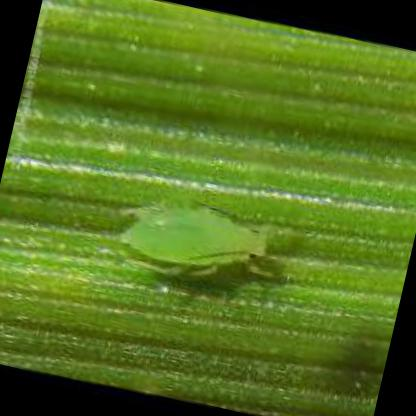schizaphis graminum: (119, 207, 270, 266)
